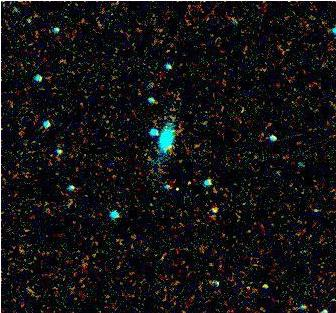star: (163, 172, 193, 202)
